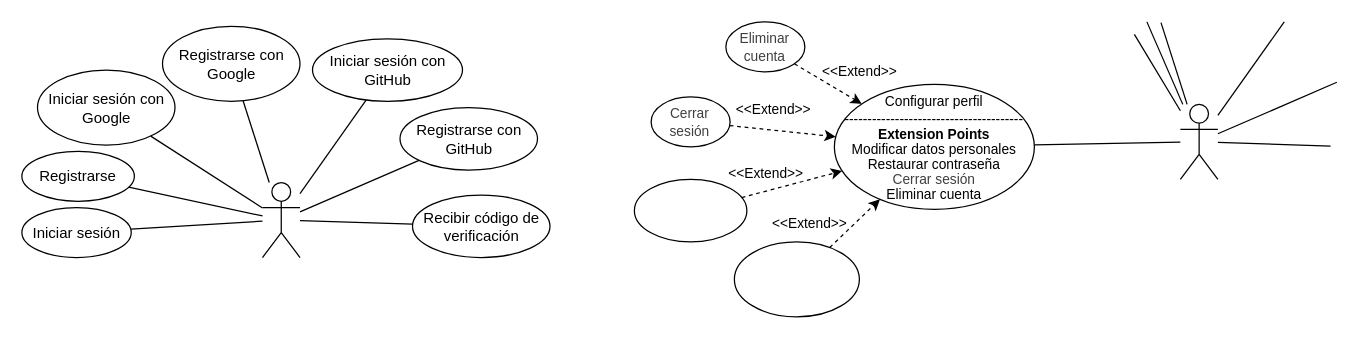
Image size: 1360x339. Some labels were removed from this diagram. The shapes that lost their labels are listed below. From the top down, each one's centre as x and y in pixels, then its label:
At [1198,141]: "Usuario Autenticado".
At [280,219]: "Usuario no Autenticado".
At [690,210]: "Restaurar contraseña".
At [796,279]: "Modificar datos personales".
